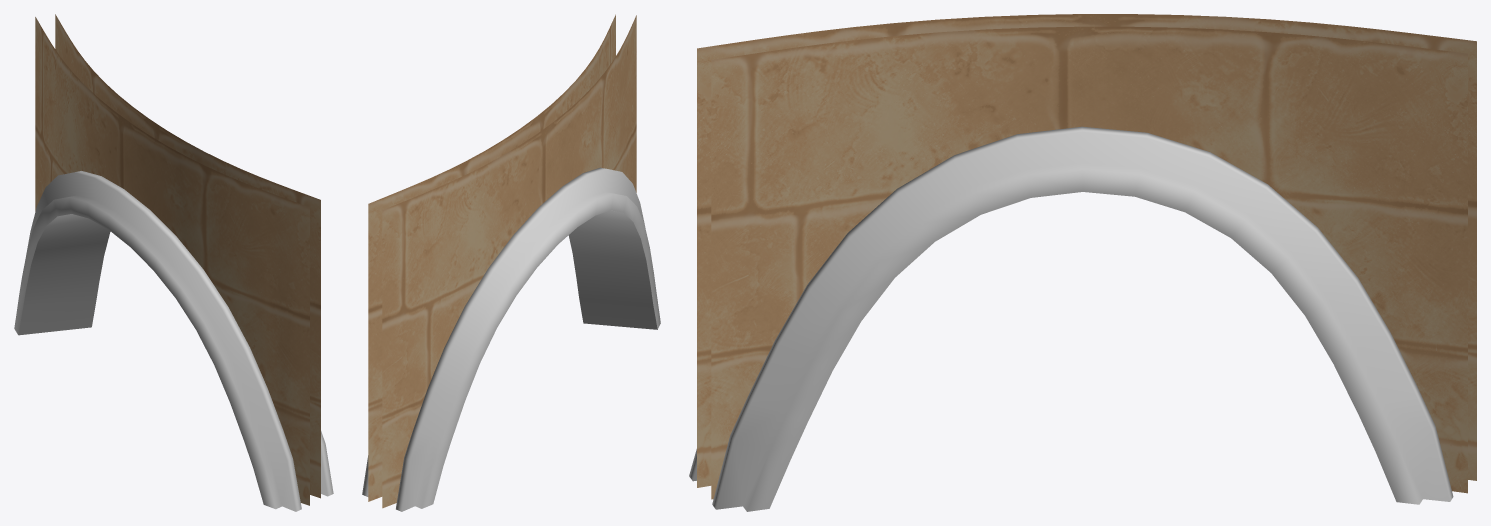
File: SM_Dome_Wall_01.fbx
3 views of the same model, side by side, from view 1: azimuth 30°, elevation 25°; view 2: azimuth 150°, elevation 25°; view 3: azimuth 270°, elevation 25° (orthographic). The views are drawn at different scales.
Visible parts, largest first — view 1: SM_Dome_Wall_01_LOD0; view 2: SM_Dome_Wall_01_LOD0; view 3: SM_Dome_Wall_01_LOD0.
Part boxes in pixels (bbox=[...]): SM_Dome_Wall_01_LOD0: bbox=[14, 14, 333, 511]; SM_Dome_Wall_01_LOD0: bbox=[362, 14, 660, 511]; SM_Dome_Wall_01_LOD0: bbox=[689, 14, 1476, 511].
Size of the model in its own units: 58.07 by 258 by 159.
